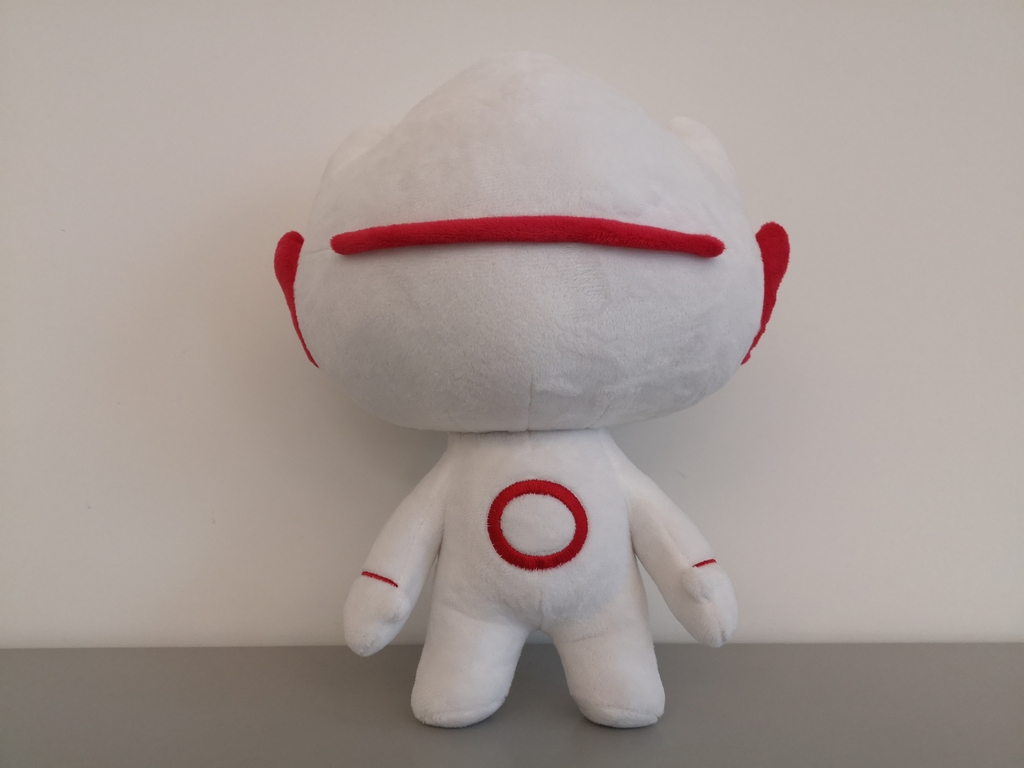yunbao: (246, 13, 799, 729)
